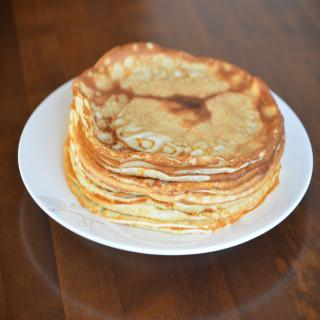Pancake: (65, 106, 282, 235), (73, 40, 280, 172)
